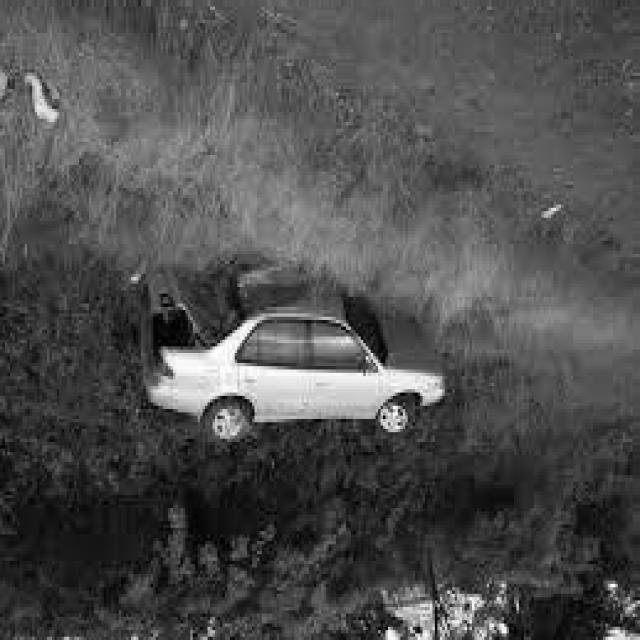severe: (134, 264, 443, 456)
